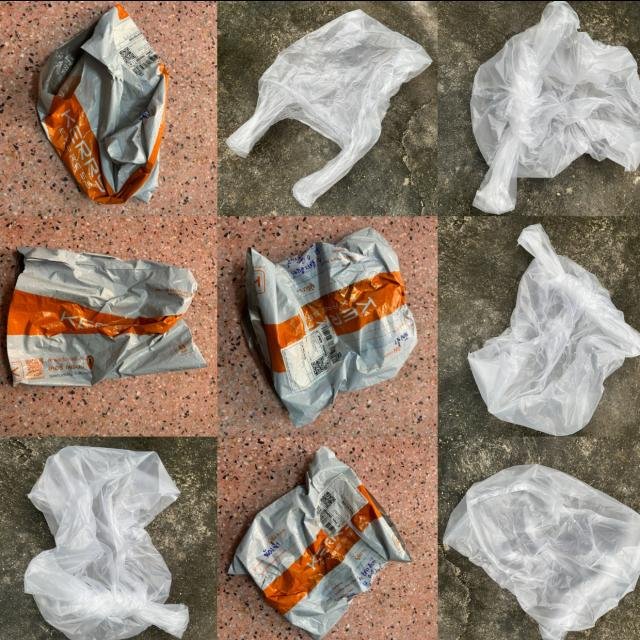plastik: (225, 9, 432, 205), (468, 223, 640, 435), (471, 0, 640, 213), (229, 446, 411, 640), (443, 464, 640, 640), (247, 227, 418, 426), (24, 446, 188, 640), (8, 247, 206, 385), (38, 4, 167, 203)
